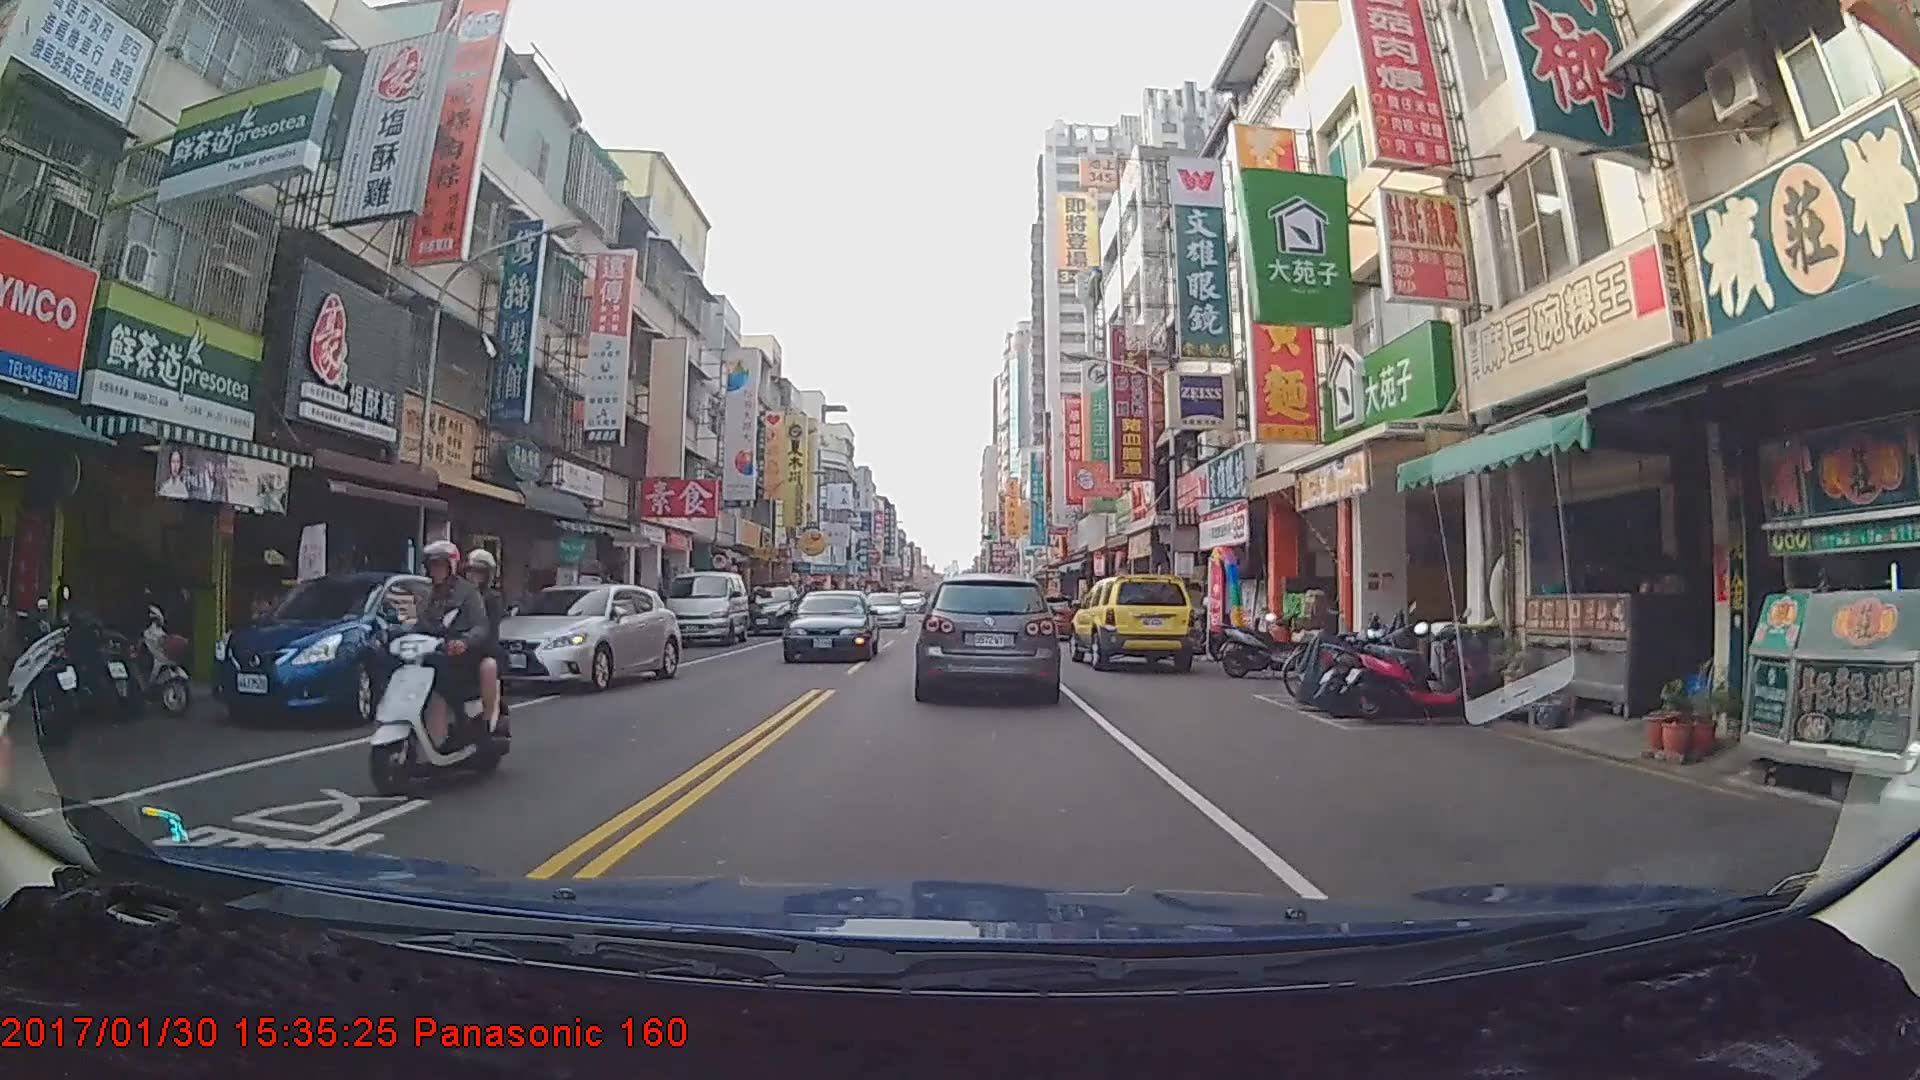rider: (365, 535, 505, 795)
vehicle: (206, 567, 479, 720), (474, 581, 680, 691), (915, 574, 1058, 701), (1070, 568, 1198, 670), (781, 587, 875, 659), (661, 569, 749, 645), (747, 584, 799, 636), (860, 589, 905, 627)
